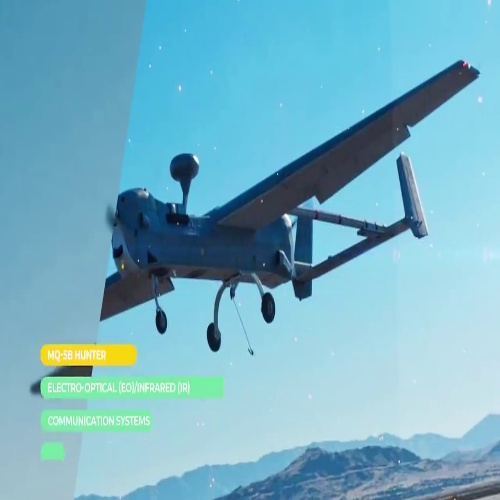uav20: (98, 57, 482, 349)
